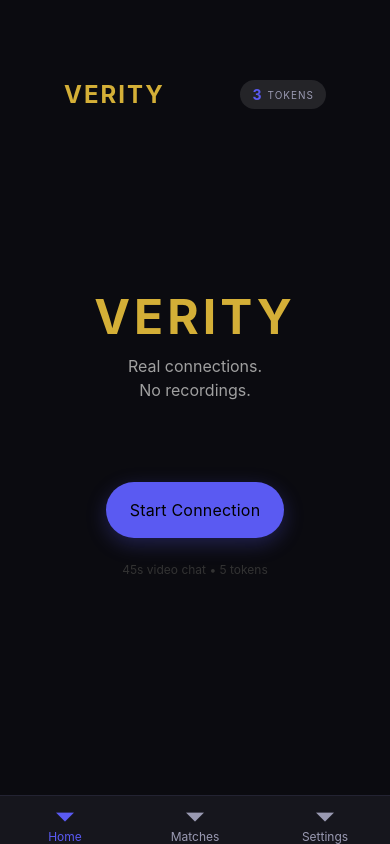
Test: SettingsScreen › opens the profile edit screen from settings
The image size is (390, 844).
Click the text "Settings": (325,836) [302,829,348,843]
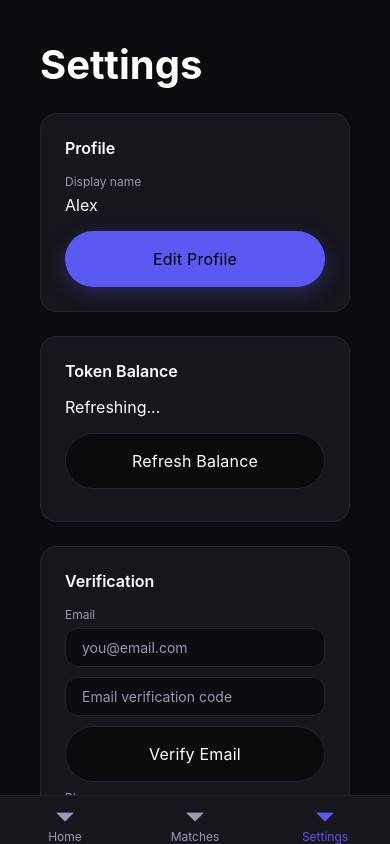
Click the button "Edit Profile": (195,259) [65,231,325,287]
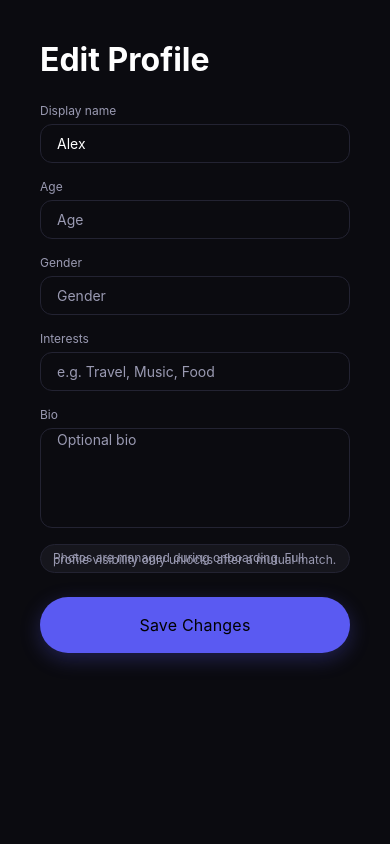
Expected: the text "Save Changes" is shown, [139,615,250,635]
